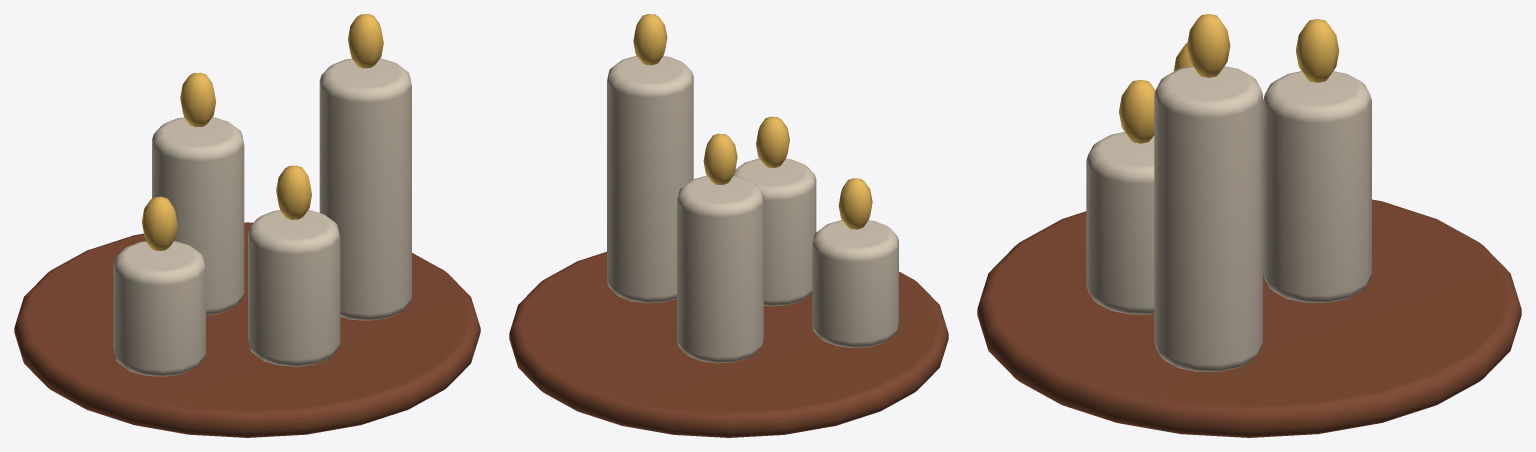
File: candle-cluster.glb
The picture shows the model from 3 angles, left to right: view 1: azimuth 30°, elevation 25°; view 2: azimuth 150°, elevation 25°; view 3: azimuth 270°, elevation 25°; orthographic projection. The views are drawn at different scales.
Visible parts, largest first — view 1: candle-cluster; view 2: candle-cluster; view 3: candle-cluster.
Part boxes in pixels (x1=…): candle-cluster: x1=14, y1=14, x2=480, y2=437; candle-cluster: x1=509, y1=14, x2=948, y2=437; candle-cluster: x1=977, y1=14, x2=1521, y2=437.
Bounding box in the file's own units: 0.4 × 0.3006 × 0.4.
